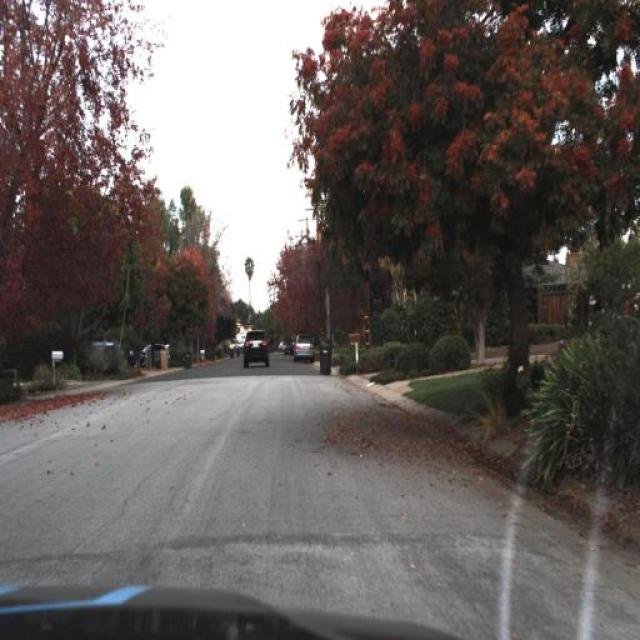car: (239, 326, 272, 374), (291, 331, 317, 367)
